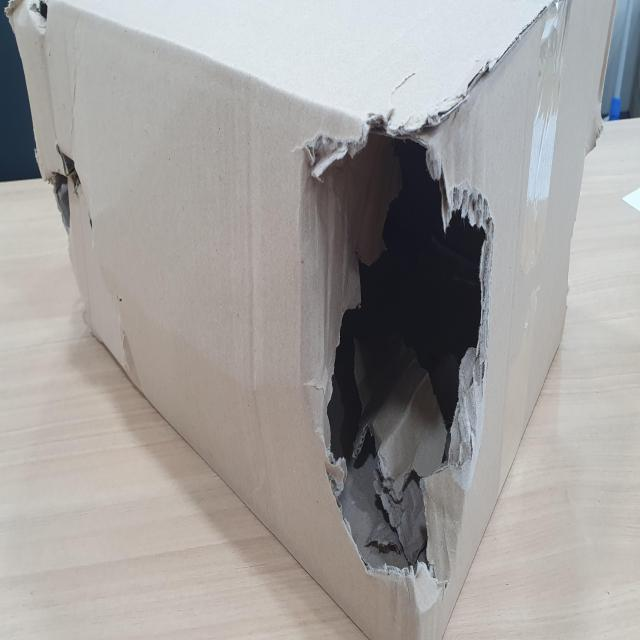damaged: (304, 108, 495, 601), (40, 113, 92, 237)
